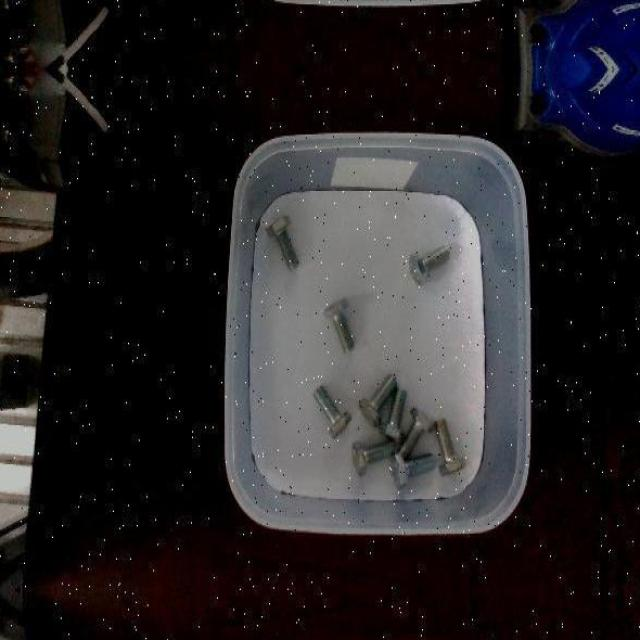screw: (312, 382, 352, 440), (358, 372, 397, 426), (434, 418, 466, 477), (323, 297, 355, 354), (267, 214, 299, 270), (351, 438, 397, 476), (409, 243, 450, 284), (390, 450, 434, 488), (378, 386, 406, 443)
